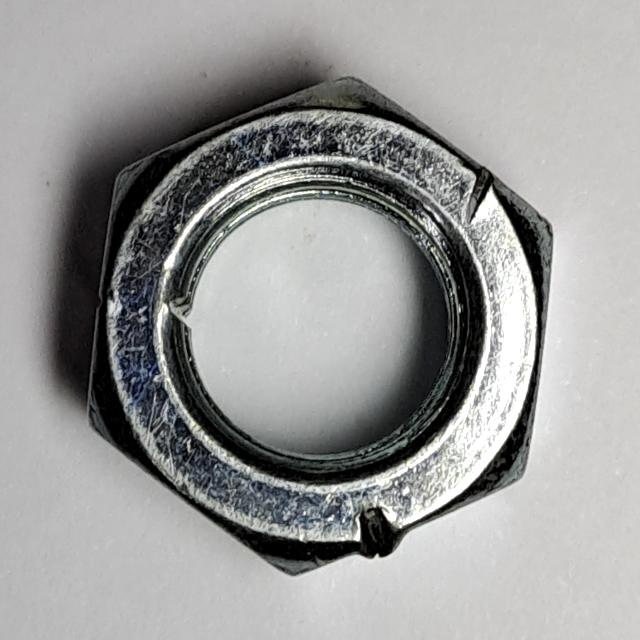Scratches: (81, 64, 564, 593)
